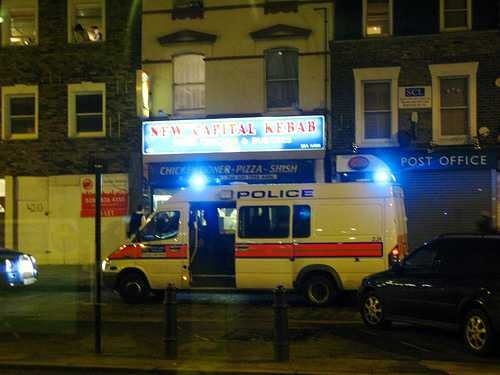Police Van: (122, 170, 420, 309)
